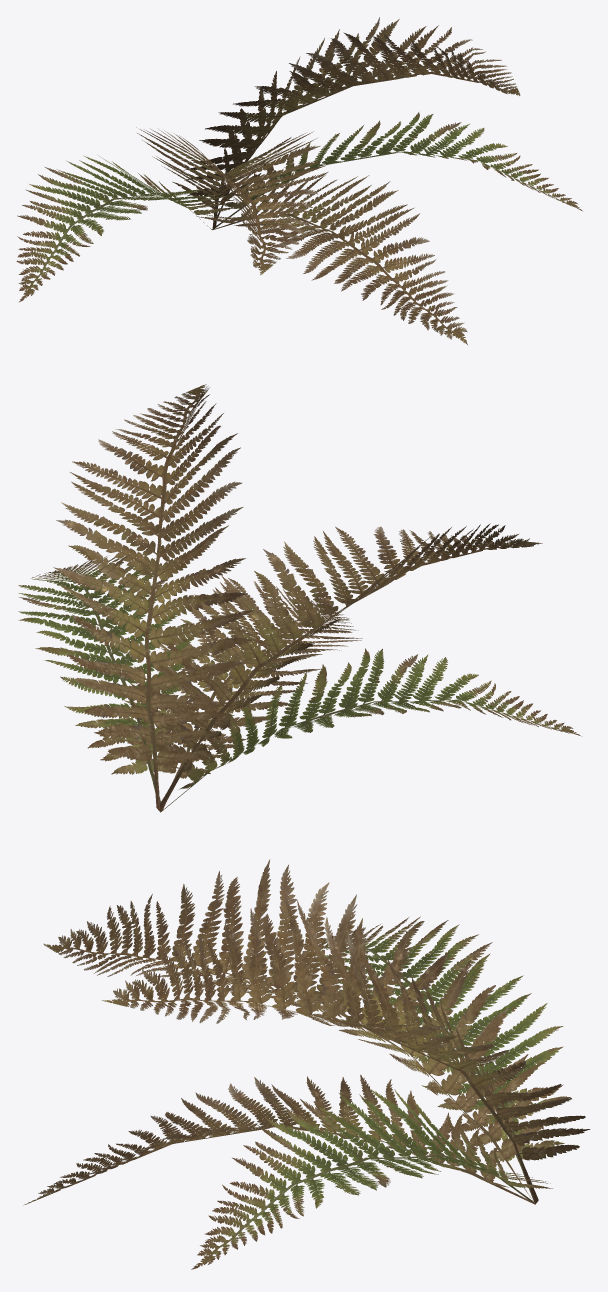
The model's file is Fern08lod0.dae.
The picture shows the model from 3 angles, top to bottom: view 1: azimuth 30°, elevation 25°; view 2: azimuth 150°, elevation 25°; view 3: azimuth 270°, elevation 25°; orthographic projection. The views are drawn at different scales.
Visible parts, largest first — view 1: SM_Fern_08_LOD; view 2: SM_Fern_08_LOD; view 3: SM_Fern_08_LOD.
Boxes of the visible parts, x1=… form: SM_Fern_08_LOD: x1=16, y1=17, x2=582, y2=344; SM_Fern_08_LOD: x1=18, y1=384, x2=581, y2=812; SM_Fern_08_LOD: x1=23, y1=859, x2=590, y2=1269.
Size of the model in its own units: 1.85 by 0.9266 by 1.39.
